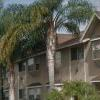Tree: (10, 2, 86, 76)
